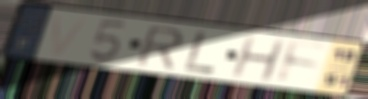5: (88, 17, 130, 63)
F: (275, 38, 332, 85)
H: (227, 35, 288, 84)
L: (181, 30, 220, 75)
R: (133, 25, 186, 70)
V: (48, 10, 94, 59)
